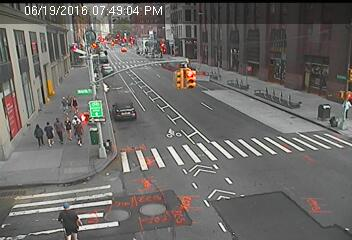neg: (16, 32, 46, 73), (173, 117, 202, 156), (106, 93, 135, 132), (135, 190, 159, 222), (87, 43, 111, 74), (172, 63, 195, 95), (223, 153, 246, 183), (269, 178, 291, 207), (264, 87, 285, 115), (277, 39, 297, 64), (321, 99, 335, 118)
pos: (51, 195, 82, 237), (38, 117, 59, 146), (71, 117, 92, 146), (49, 113, 69, 140), (27, 120, 46, 146), (62, 117, 77, 137)
